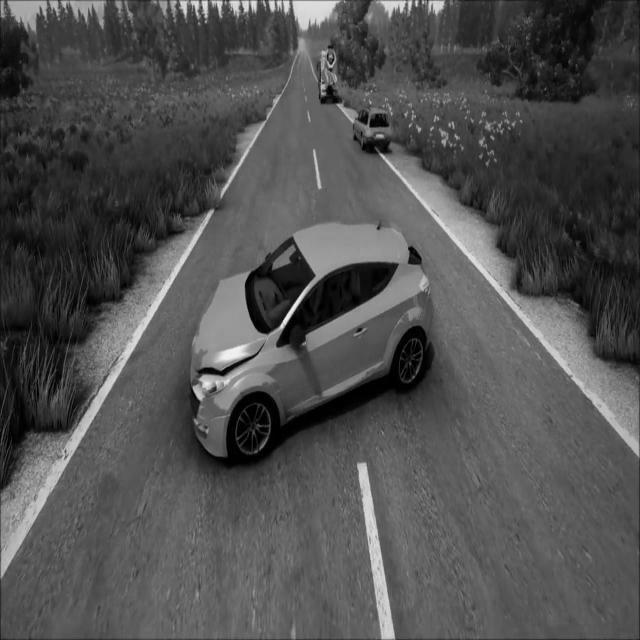vehicle: (154, 195, 437, 496)
